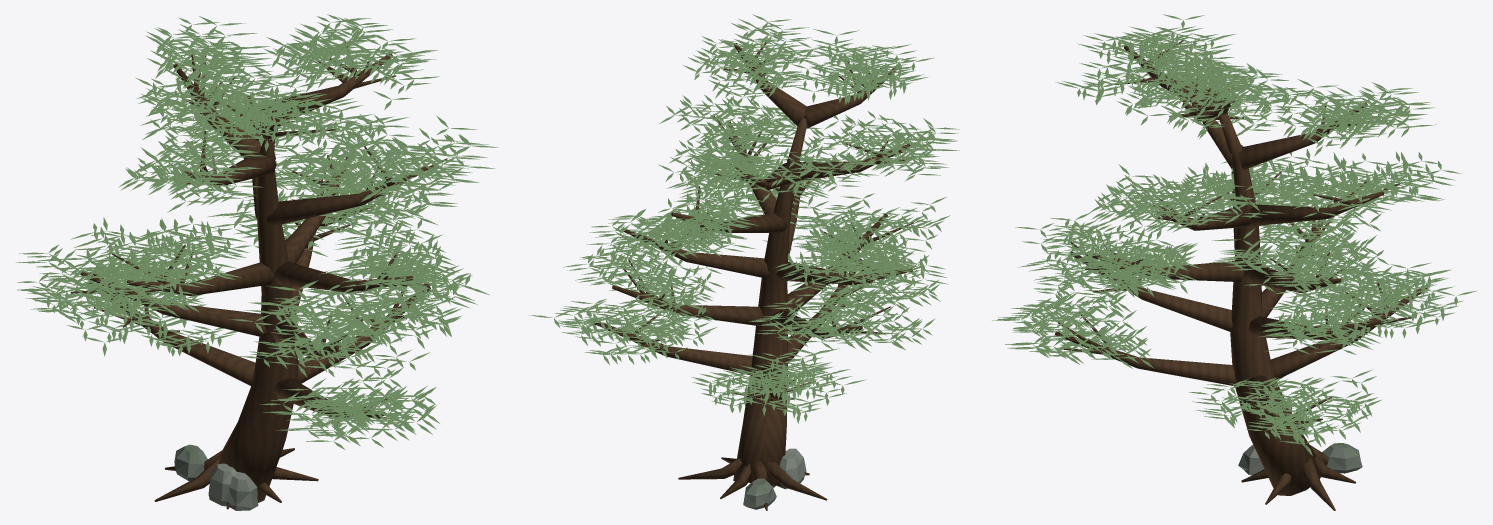
File: v01_pine_rooted_1.fbx
The picture shows the model from 3 angles, left to right: view 1: azimuth 30°, elevation 25°; view 2: azimuth 150°, elevation 25°; view 3: azimuth 270°, elevation 25°; orthographic projection. The views are drawn at different scales.
Parts seen in each view (by area): view 1: v01_pine_rooted_1.001; view 2: v01_pine_rooted_1.001; view 3: v01_pine_rooted_1.001.
Part boxes in pixels (x1,y1,x2,y2): v01_pine_rooted_1.001: (15,14,498,510); v01_pine_rooted_1.001: (528,14,959,510); v01_pine_rooted_1.001: (992,14,1477,510).
Bounding box in the file's own units: 48309 × 46722 × 48051.
